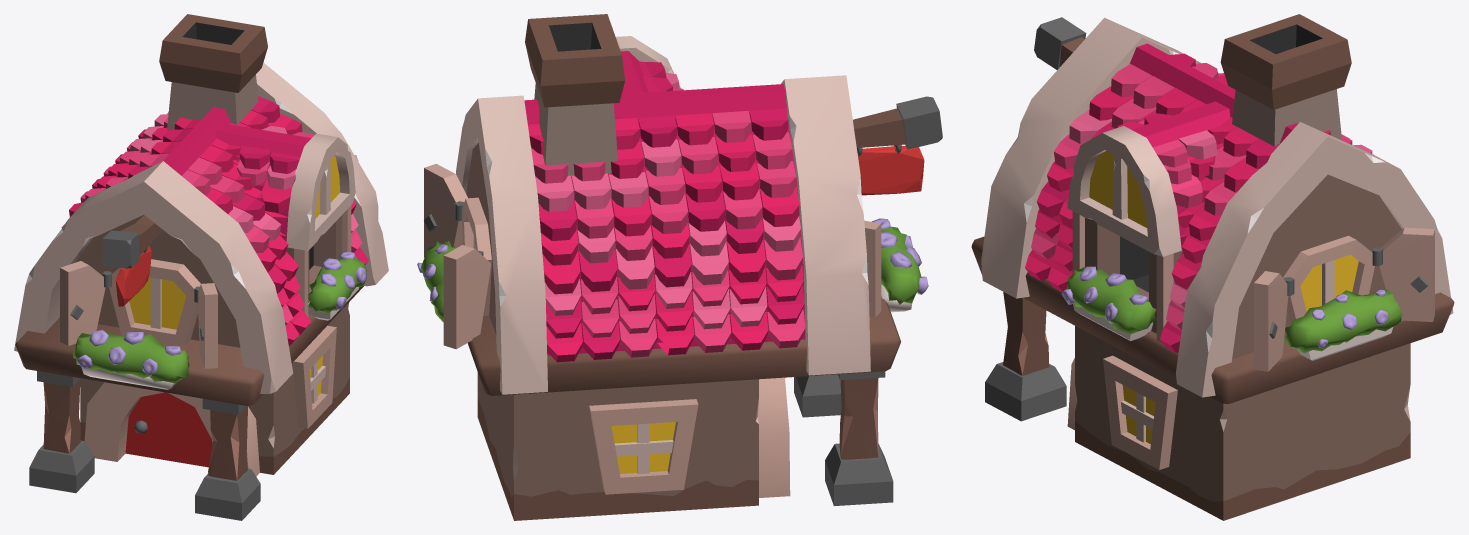
File: n4_house_002_lev4.006.glb
3 renders of one model, left to right at view 1: azimuth 30°, elevation 25°; view 2: azimuth 150°, elevation 25°; view 3: azimuth 270°, elevation 25°, orthographic. The views are drawn at different scales.
Visible parts, largest first — view 1: n4_house_002_lev4.006; view 2: n4_house_002_lev4.006; view 3: n4_house_002_lev4.006.
Part boxes in pixels (left/top/right/bottom): n4_house_002_lev4.006: left=14, top=14, right=388, bottom=520; n4_house_002_lev4.006: left=417, top=14, right=942, bottom=520; n4_house_002_lev4.006: left=971, top=14, right=1454, bottom=520.
Bounding box in the file's own units: 11.17 × 10.33 × 10.75.
1 material, 1 textured.
